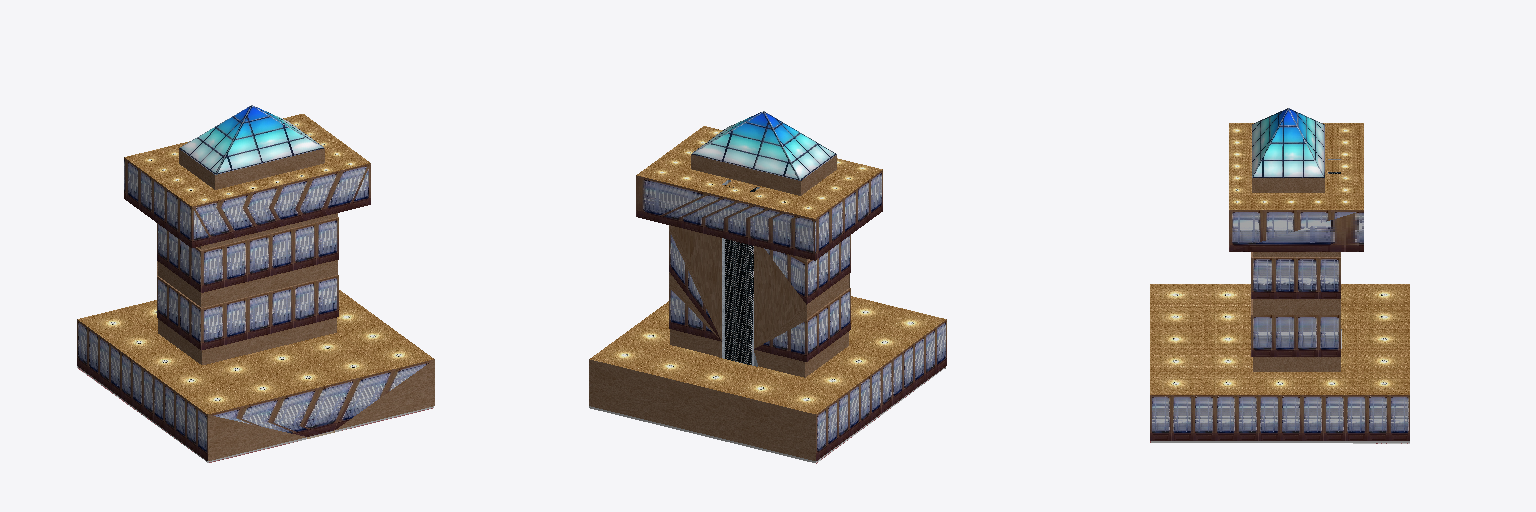
3 renders of one model, left to right at view 1: azimuth 30°, elevation 25°; view 2: azimuth 150°, elevation 25°; view 3: azimuth 270°, elevation 25°, orthographic.
Visible parts, largest first — view 1: ElevatorFoyerBuilding; view 2: ElevatorFoyerBuilding; view 3: ElevatorFoyerBuilding.
Part boxes in pixels (x1,y1,x2,y2): ElevatorFoyerBuilding: (77,105,434,462); ElevatorFoyerBuilding: (589,111,946,463); ElevatorFoyerBuilding: (1150,108,1409,443).
Size of the model in its own units: 2192 by 2733 by 2181.
16 materials, 8 textured.